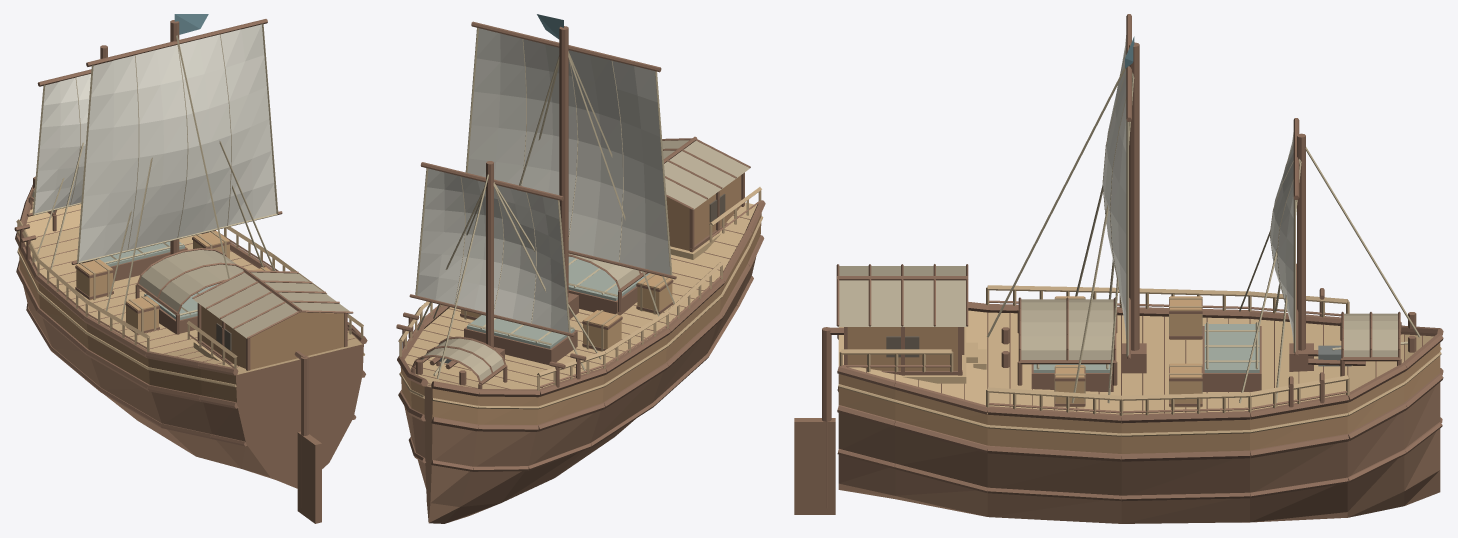
Rendered from merchant_ship.glb.
The picture shows the model from 3 angles, left to right: view 1: azimuth 30°, elevation 25°; view 2: azimuth 150°, elevation 25°; view 3: azimuth 270°, elevation 25°; orthographic projection. The views are drawn at different scales.
Parts seen in each view (by area): view 1: 12_main_sail_canvas, 01_deep_ocean_hull, 02_hull_wales_and_bulwarks, 06_plain_pitched_cabin_roof, 12_fore_sail_canvas, 05_stern_steering_cabin, 08_mid_cargo_shelter, 12_main_sail_seams_and_yards, 09_secured_deck_cargo, 17_rudder_and_mooring, 08_large_cargo_hatches, 14_main_shrouds (+4 smaller); view 2: 01_deep_ocean_hull, 12_main_sail_canvas, 12_fore_sail_canvas, 02_hull_wales_and_bulwarks, 08_large_cargo_hatches, 06_plain_pitched_cabin_roof, 05_stern_steering_cabin, 12_main_sail_seams_and_yards, 09_secured_deck_cargo, 12_fore_sail_seams_and_yards, 11_main_mast, 04_low_bow_shelter (+6 smaller); view 3: 01_deep_ocean_hull, 02_hull_wales_and_bulwarks, 06_plain_pitched_cabin_roof, 08_mid_cargo_shelter, 05_stern_steering_cabin, 17_rudder_and_mooring, 08_large_cargo_hatches, 09_secured_deck_cargo, 12_main_sail_canvas, 11_main_mast, 04_low_bow_shelter, 12_fore_sail_canvas (+7 smaller).
Part boxes in pixels (x1,y1,x2,y2): 12_main_sail_canvas: (78,24,276,261); 01_deep_ocean_hull: (19,202,363,488); 02_hull_wales_and_bulwarks: (15,185,367,446); 06_plain_pitched_cabin_roof: (192,269,353,338); 12_fore_sail_canvas: (34,74,90,213); 05_stern_steering_cabin: (187,303,363,370); 08_mid_cargo_shelter: (135,248,245,334); 12_main_sail_seams_and_yards: (71,19,282,264); 09_secured_deck_cargo: (75,230,270,334); 17_rudder_and_mooring: (33,176,321,523); 08_large_cargo_hatches: (79,241,219,333); 14_main_shrouds: (105,35,275,324); 01_deep_ocean_hull: (400,202,761,523); 12_main_sail_canvas: (467,28,670,274); 12_fore_sail_canvas: (417,168,568,332); 02_hull_wales_and_bulwarks: (397,200,765,471); 08_large_cargo_hatches: (464,256,649,365); 06_plain_pitched_cabin_roof: (662,136,750,209); 05_stern_steering_cabin: (667,172,761,259); 12_main_sail_seams_and_yards: (465,21,676,279); 09_secured_deck_cargo: (460,273,673,351); 12_fore_sail_seams_and_yards: (409,162,574,336); 11_main_mast: (559,26,578,318); 04_low_bow_shelter: (411,336,507,389); 01_deep_ocean_hull: (838,310,1440,523); 02_hull_wales_and_bulwarks: (837,285,1443,501); 06_plain_pitched_cabin_roof: (836,264,968,326); 08_mid_cargo_shelter: (1017,297,1117,385); 05_stern_steering_cabin: (839,327,966,383); 17_rudder_and_mooring: (794,312,1416,514); 08_large_cargo_hatches: (1031,322,1261,391); 09_secured_deck_cargo: (1054,296,1202,407); 12_main_sail_canvas: (1103,35,1126,338); 11_main_mast: (1122,42,1146,373); 04_low_bow_shelter: (1340,311,1401,376); 12_fore_sail_canvas: (1270,132,1293,341).
Bounding box in the file's own units: 8.34 × 15.66 × 18.93.
